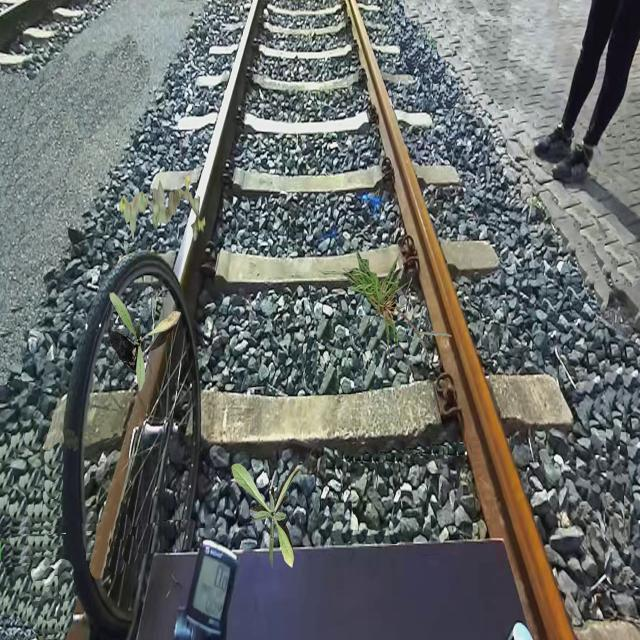Plant: (309, 248, 452, 368), (231, 461, 302, 569), (109, 292, 180, 392), (119, 173, 206, 242)
